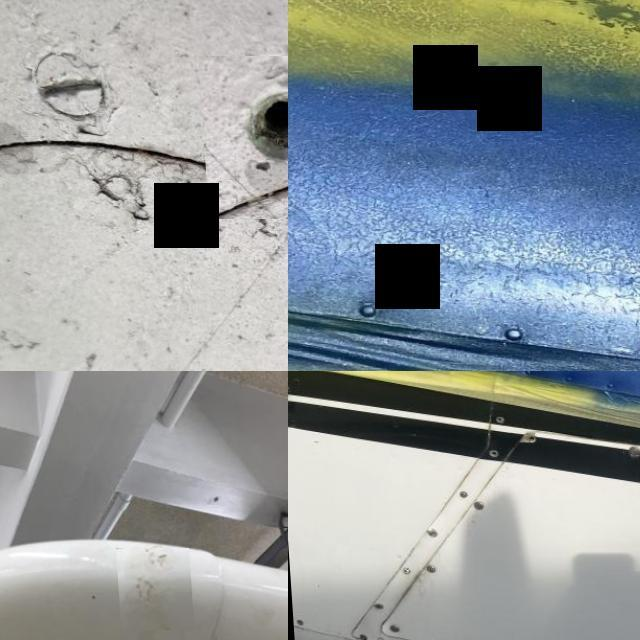Crack: (112, 548, 188, 630)
Missing_Fastener: (196, 56, 288, 219), (522, 436, 532, 444), (484, 450, 494, 458), (422, 530, 432, 538), (366, 602, 376, 610), (492, 416, 501, 424), (289, 620, 297, 626)
